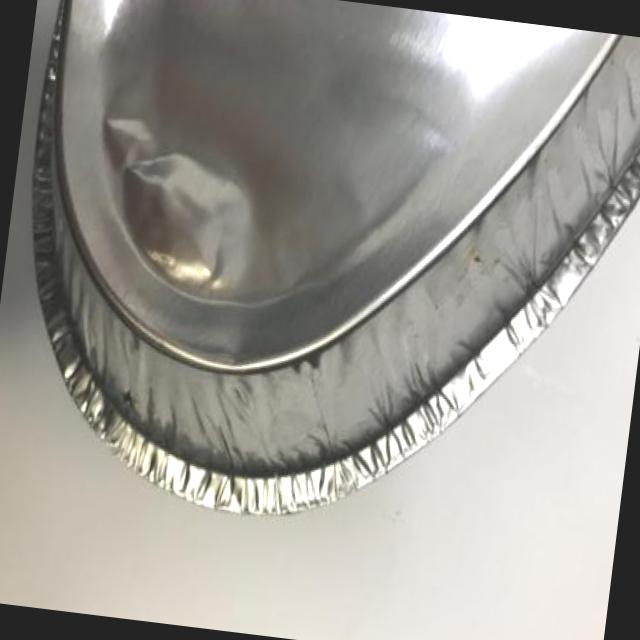kim_loai: (31, 0, 640, 514)
